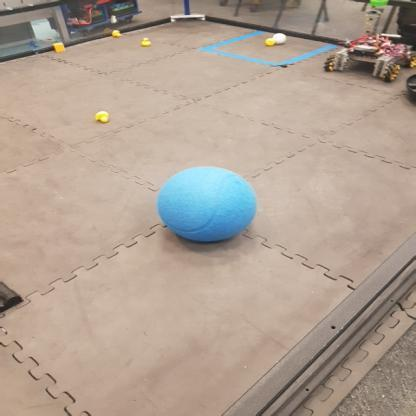sphere: (149, 162, 270, 254)
